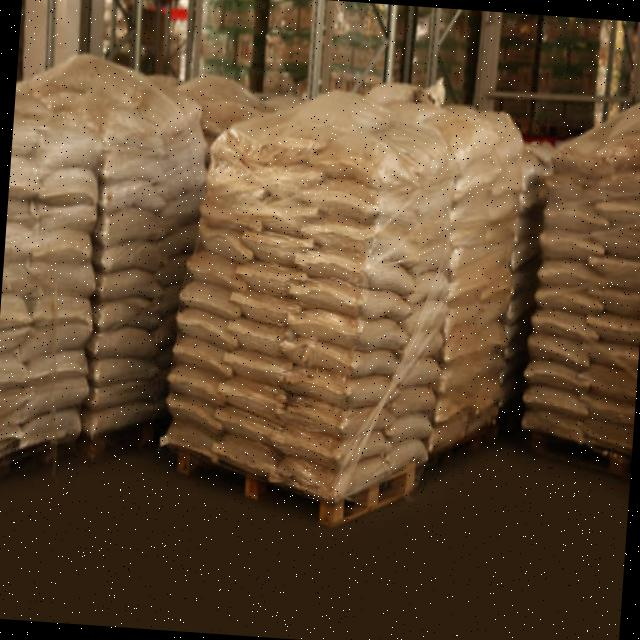Wooden-Pallets: (174, 445, 415, 531)
